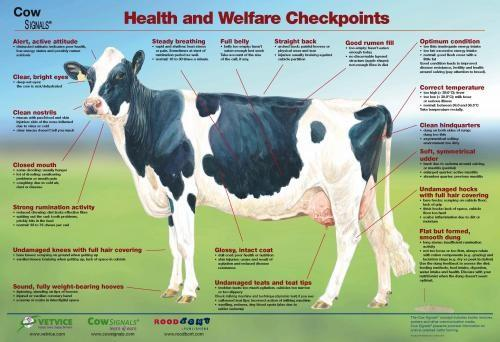cow: (63, 49, 393, 309)
